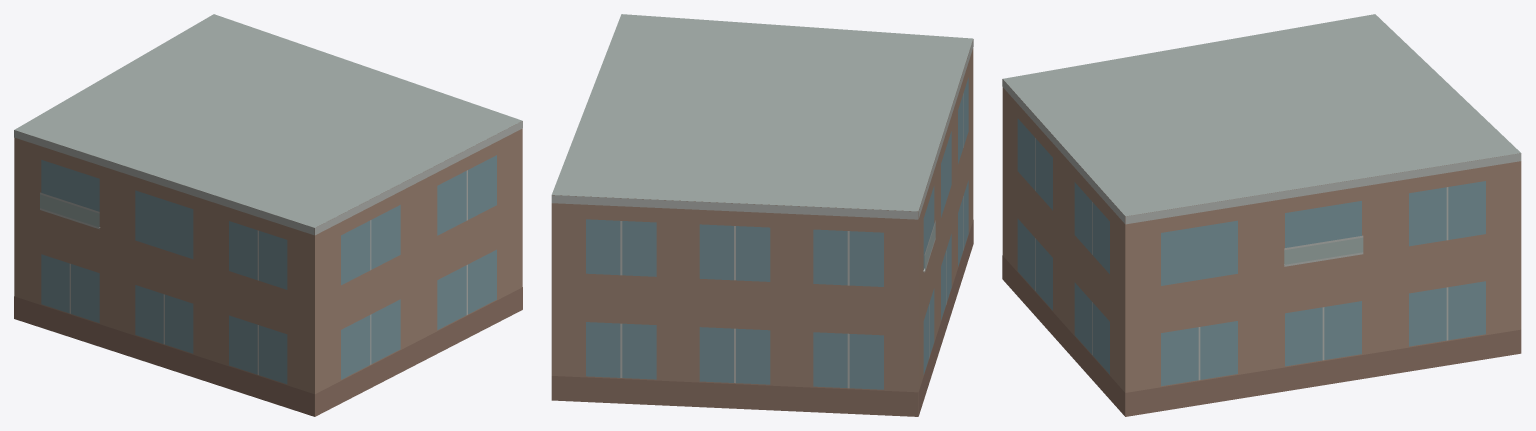
File: survey-upis-32953032.glb
3 renders of one model, left to right at view 1: azimuth 30°, elevation 25°; view 2: azimuth 150°, elevation 25°; view 3: azimuth 270°, elevation 25°, orthographic. The views are drawn at different scales.
Parts seen in each view (by area): view 1: survey-upis-32953032.tmp; view 2: survey-upis-32953032.tmp; view 3: survey-upis-32953032.tmp.
Part boxes in pixels (x1,y1,x2,y2): survey-upis-32953032.tmp: (14,14,522,416); survey-upis-32953032.tmp: (551,14,973,416); survey-upis-32953032.tmp: (1002,14,1521,416).
Size of the model in its own units: 13.22 by 6.1 by 14.32.
